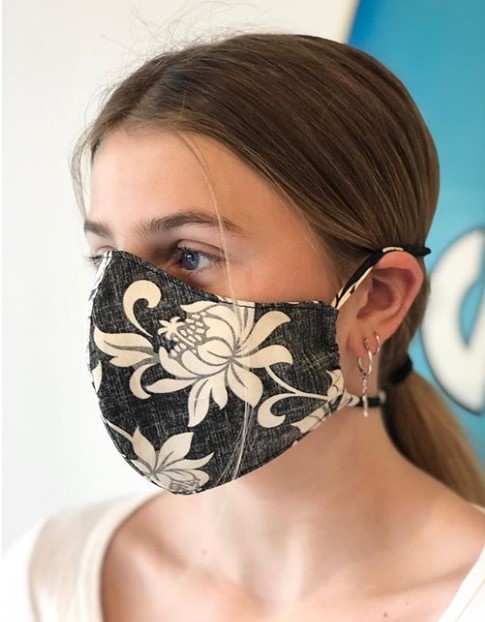face_with_mask: (57, 22, 444, 510)
